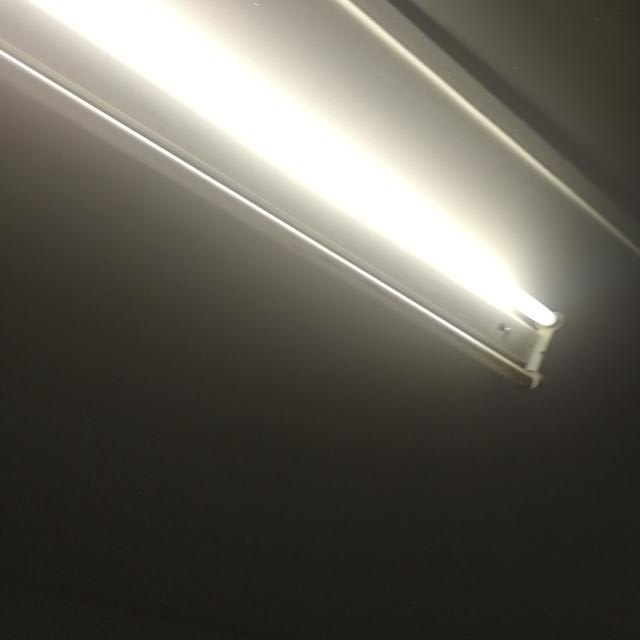fluorescent tube: (0, 0, 583, 293)
